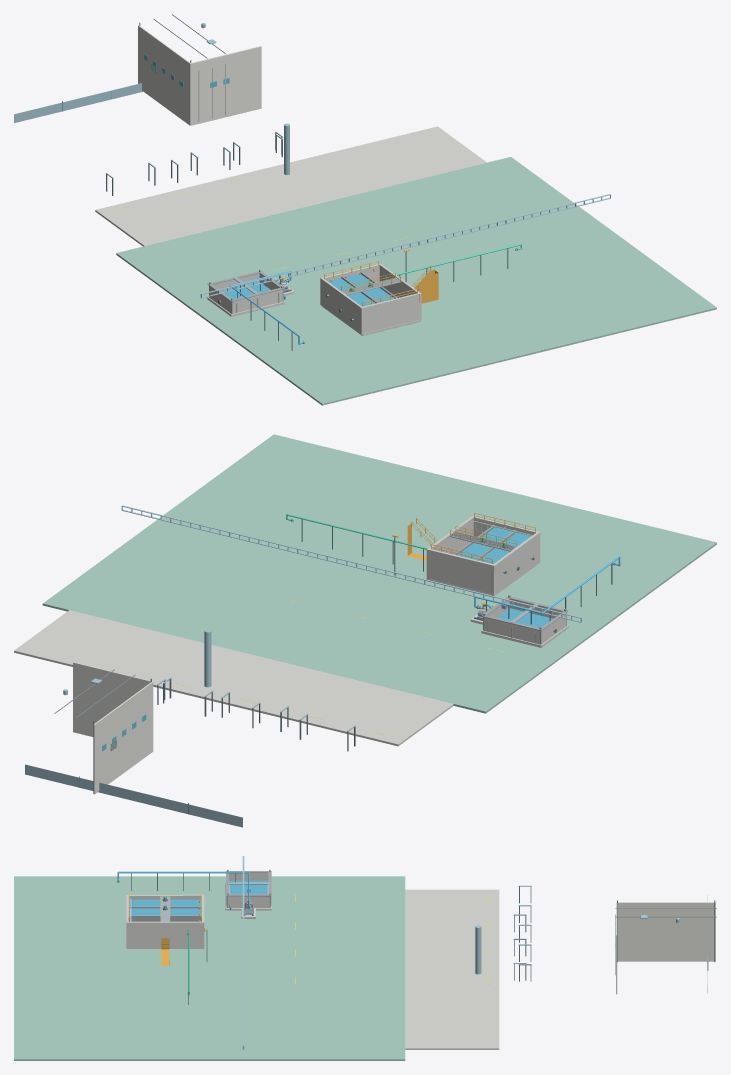
3 views of the same model, one above another, from view 1: azimuth 30°, elevation 25°; view 2: azimuth 150°, elevation 25°; view 3: azimuth 270°, elevation 25° (orthographic). The views are drawn at different scales.
Visible parts, largest first — view 1: render-batch-10, render-batch-14, render-batch-16, render-batch-9, render-batch-17, render-batch-3, render-batch-5, render-batch-11; view 2: render-batch-10, render-batch-14, render-batch-16, render-batch-9, render-batch-3, render-batch-5, render-batch-17, render-batch-11; view 3: render-batch-10, render-batch-14, render-batch-16, render-batch-3, render-batch-9, render-batch-11, render-batch-5, render-batch-0, render-batch-17, render-batch-12.
Part boxes in pixels (x1,y1,x2,y2): render-batch-10: (116, 157, 716, 405); render-batch-14: (95, 64, 486, 335); render-batch-16: (138, 25, 261, 125); render-batch-9: (14, 23, 610, 298); render-batch-17: (281, 249, 438, 306); render-batch-3: (221, 274, 394, 306); render-batch-5: (62, 22, 517, 350); render-batch-11: (207, 269, 397, 313); render-batch-10: (42, 434, 716, 713); render-batch-14: (14, 515, 568, 746); render-batch-16: (73, 662, 153, 794); render-batch-9: (25, 505, 581, 827); render-batch-3: (457, 527, 552, 627); render-batch-5: (79, 519, 615, 814); render-batch-17: (392, 513, 535, 609); render-batch-11: (453, 525, 568, 644); render-batch-10: (14, 876, 405, 1060); render-batch-14: (126, 873, 615, 1049); render-batch-16: (616, 902, 715, 994); render-batch-3: (129, 880, 267, 915); render-batch-9: (242, 856, 707, 1049); render-batch-11: (129, 869, 271, 921); render-batch-5: (117, 873, 715, 1004); render-batch-0: (117, 871, 249, 909); render-batch-17: (128, 892, 250, 965); render-batch-12: (129, 882, 270, 921).
Size of the model in its own units: 86.08 by 14.04 by 135.
